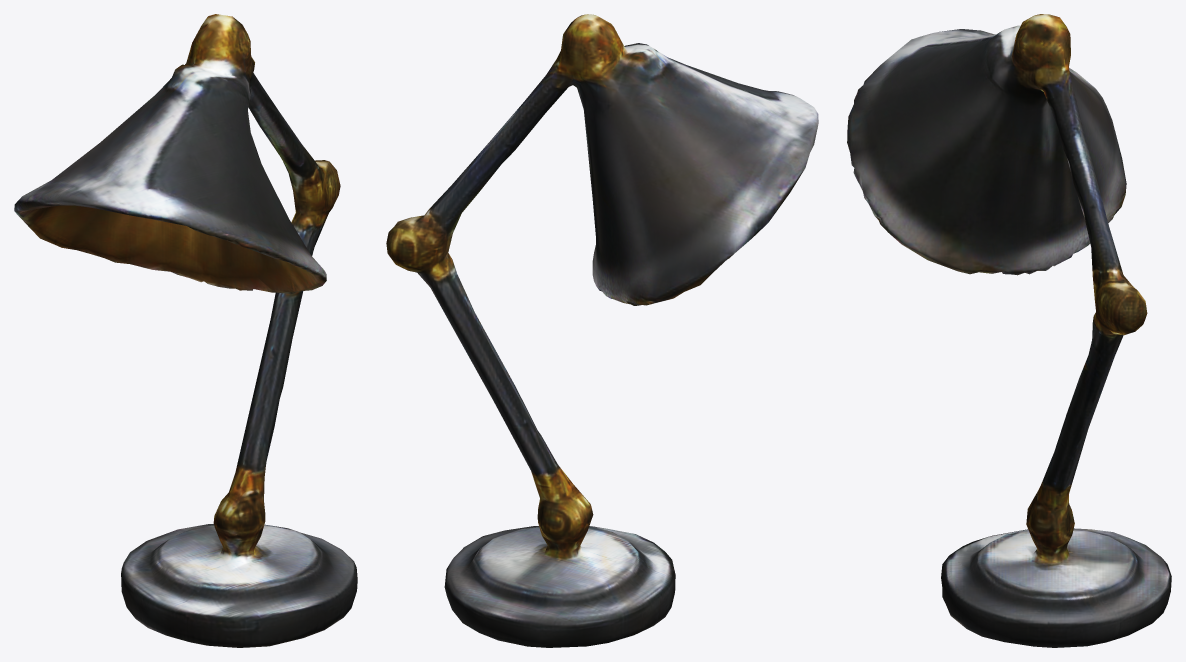
Rendered from lamp.glb.
The picture shows the model from 3 angles, left to right: view 1: azimuth 30°, elevation 25°; view 2: azimuth 150°, elevation 25°; view 3: azimuth 270°, elevation 25°; orthographic projection. The views are drawn at different scales.
Visible parts, largest first — view 1: world; view 2: world; view 3: world.
Part boxes in pixels (x1=…): world: x1=14, y1=14, x2=357, y2=647; world: x1=386, y1=14, x2=818, y2=647; world: x1=847, y1=14, x2=1171, y2=647.
Bounding box in the file's own units: 1.07 × 1.71 × 0.8705.
Materials: 1 (1 with a texture image).
